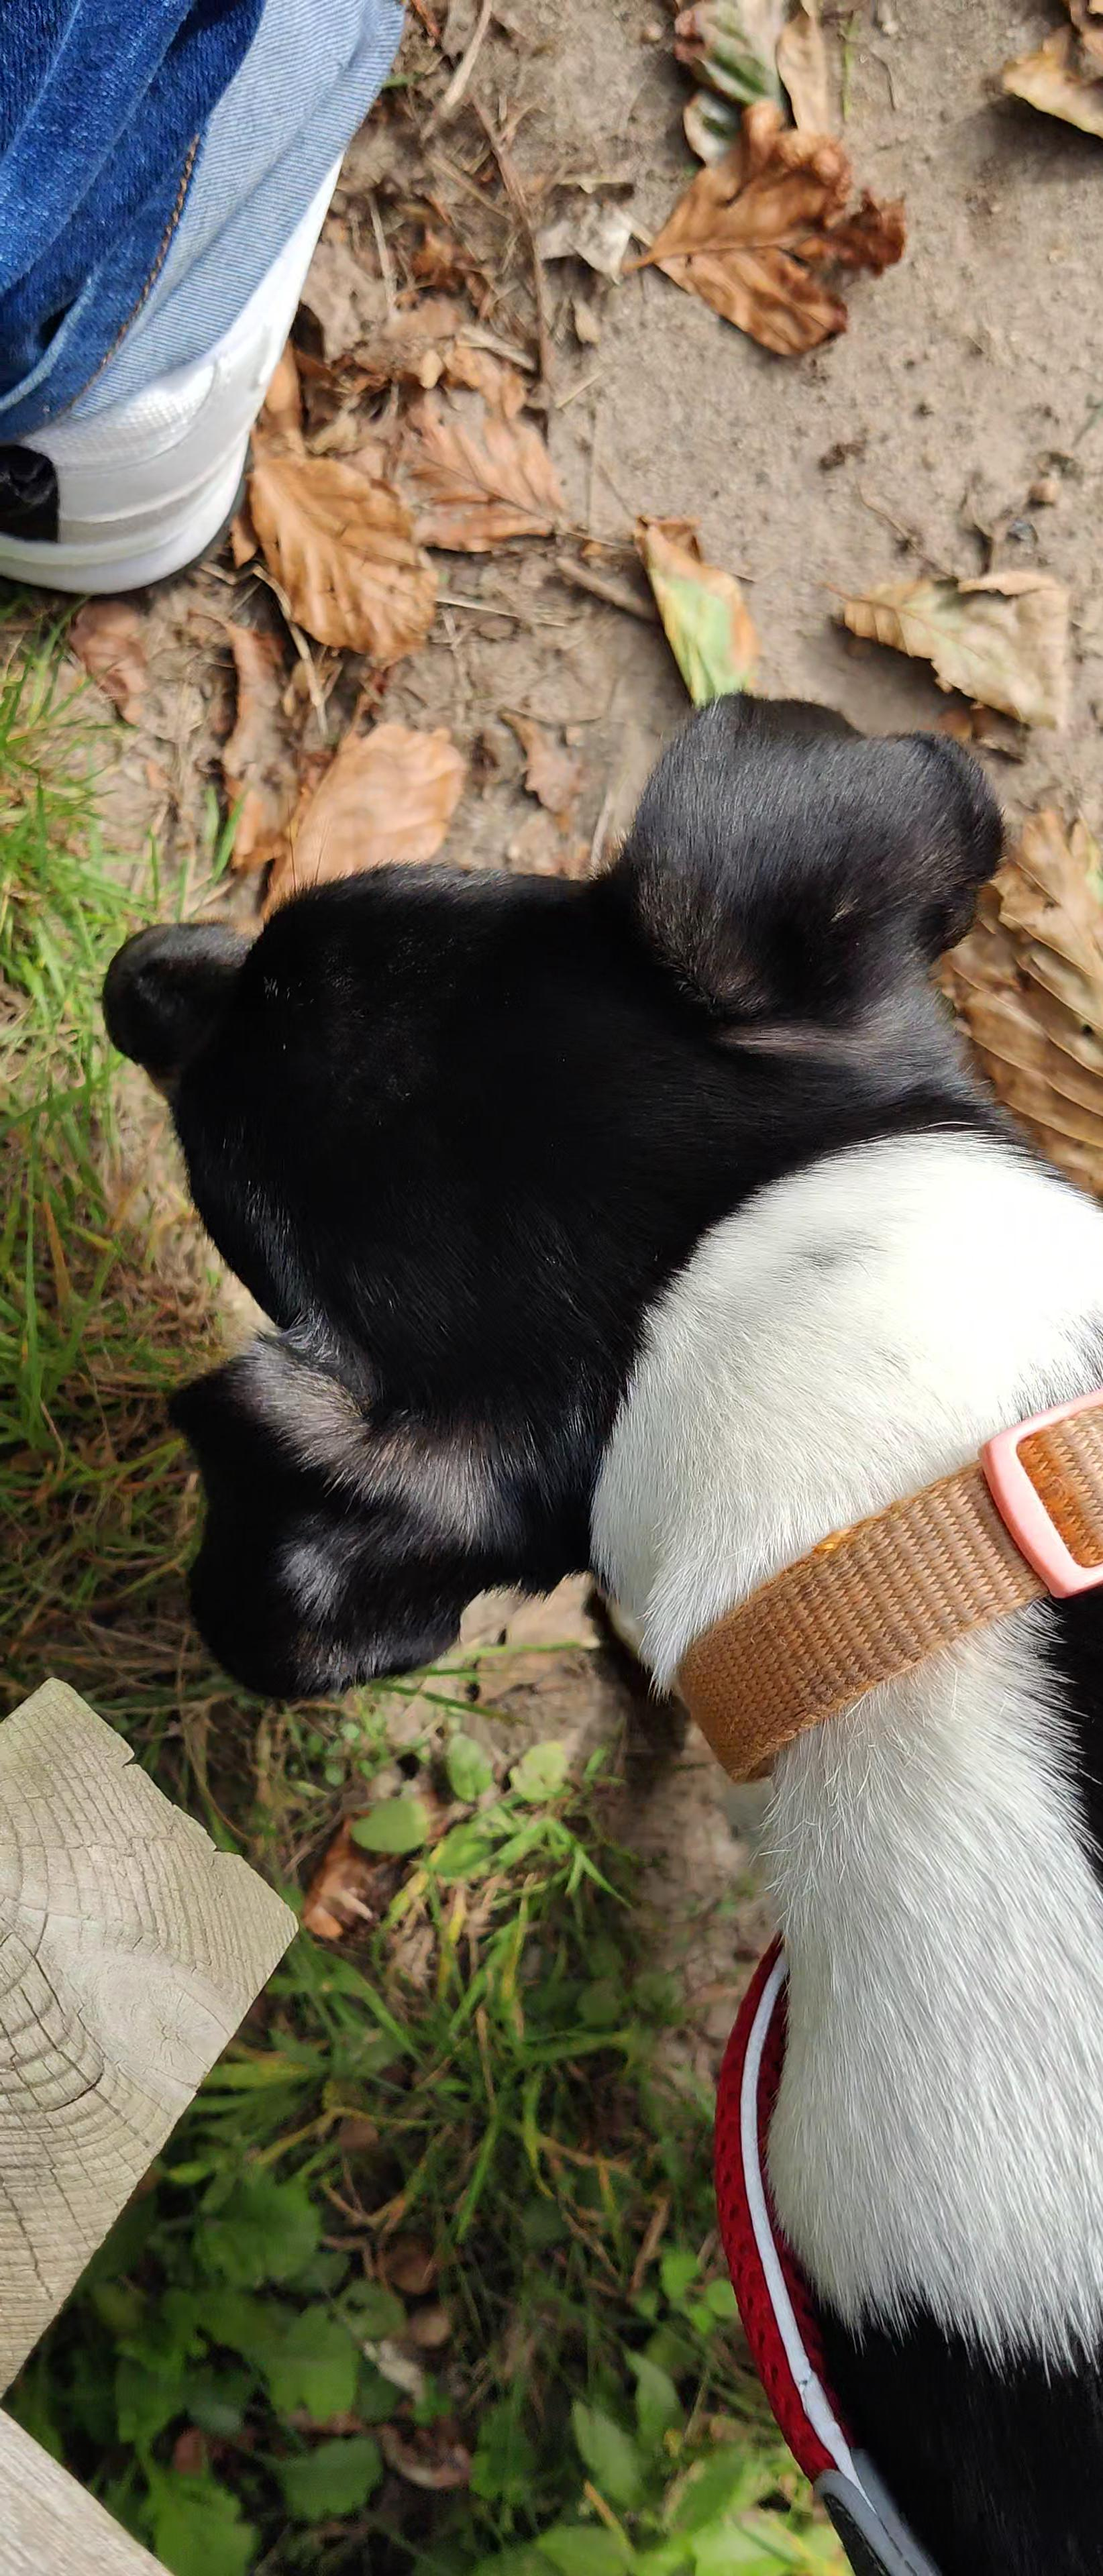Dog: (82, 669, 1103, 2576)
